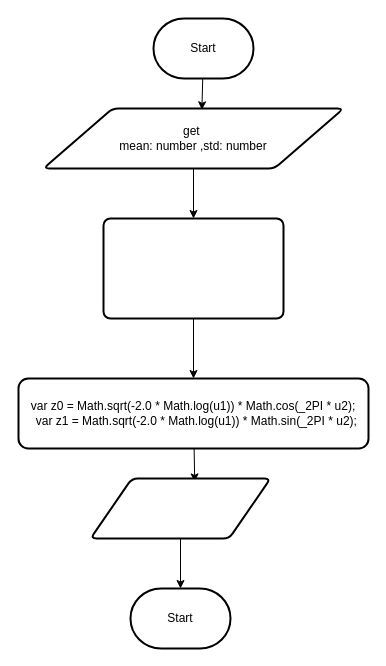
This 386x666 diagram has some shape labels left out. The shapes that lost their labels are listed below. From the top down, each one's box as (x1, y1, x2, y2) in pixels, then its label:
(102, 217, 284, 319): var _2PI = Math.PI * 2; var u1 = Math.random(); var u2 = Math.random();
(89, 477, 271, 539): return z0 * std + mean;
